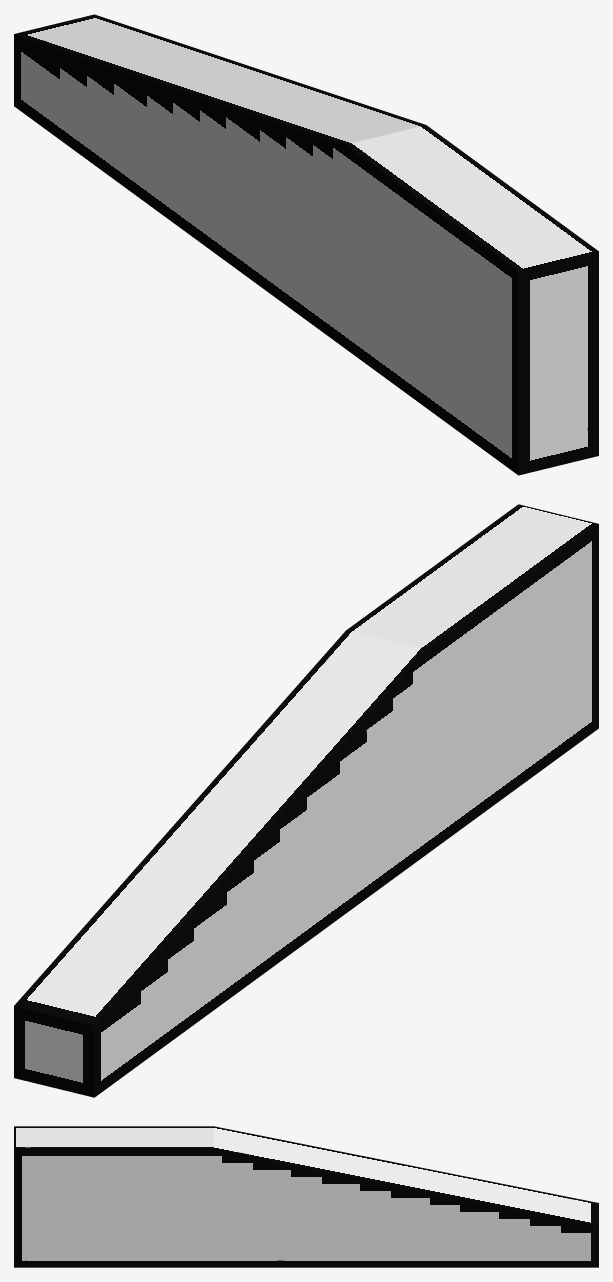
File: side.gltf
3 views of the same model, one above another, from view 1: azimuth 30°, elevation 25°; view 2: azimuth 150°, elevation 25°; view 3: azimuth 270°, elevation 25° (orthographic). The views are drawn at different scales.
Parts seen in each view (by area): view 1: cuboid; view 2: cuboid; view 3: cuboid.
Part boxes in pixels (x1,y1,x2,y2): cuboid: (14,14,598,475); cuboid: (14,504,598,1097); cuboid: (14,1126,598,1267).
Size of the model in its own units: 0.4375 by 1.06 by 4.75.
1 material, 1 textured.
